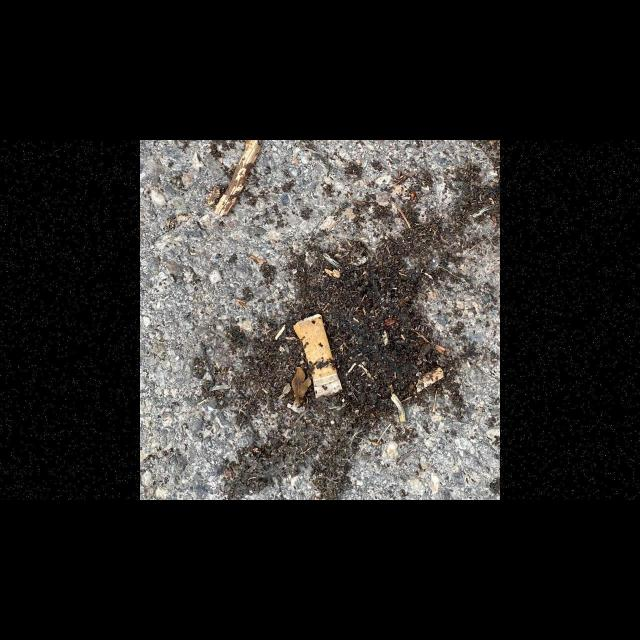cigarette: (292, 313, 344, 399)
